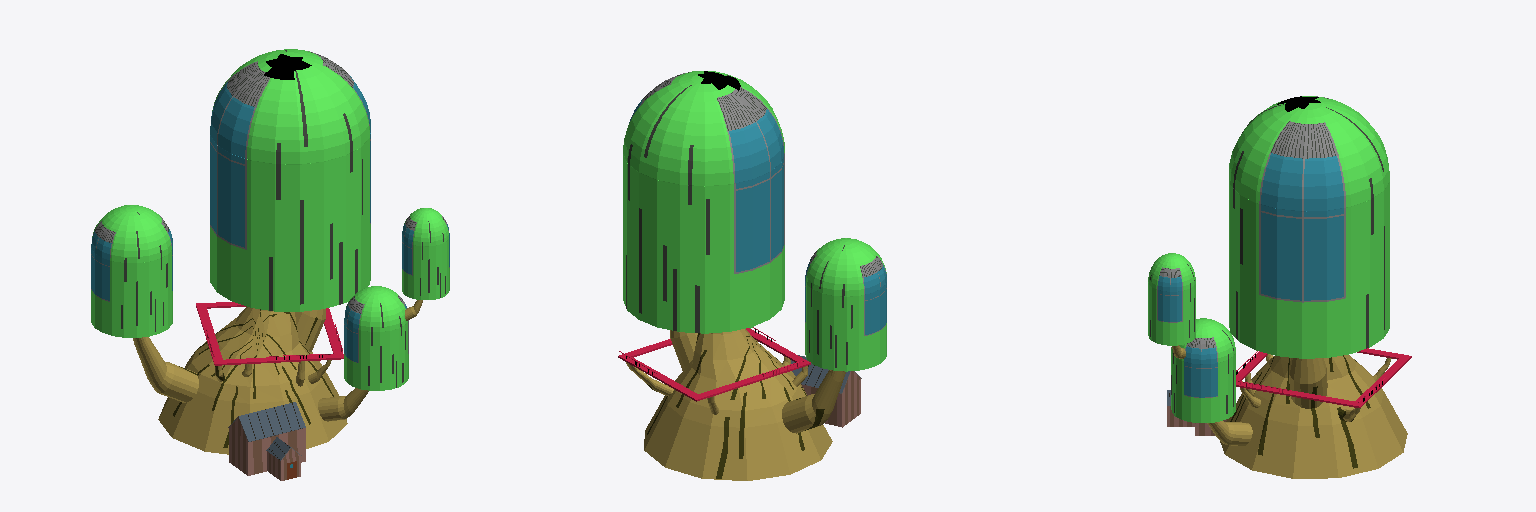
3 views of the same model, side by side, from view 1: azimuth 30°, elevation 25°; view 2: azimuth 150°, elevation 25°; view 3: azimuth 270°, elevation 25° (orthographic).
Parts seen in each view (by area): view 1: Arbol_HV:Hojas_del_arbol1, Arbol_HV:Tronco_principal, Arbol_HV:Casa, Arbol_HV:Repisa; view 2: Arbol_HV:Hojas_del_arbol1, Arbol_HV:Tronco_principal, Arbol_HV:Repisa, Arbol_HV:Casa; view 3: Arbol_HV:Hojas_del_arbol1, Arbol_HV:Tronco_principal, Arbol_HV:Repisa, Arbol_HV:Casa.
Boxes of the visible parts, x1=… form: Arbol_HV:Hojas_del_arbol1: x1=91, y1=49, x2=449, y2=390; Arbol_HV:Tronco_principal: x1=133, y1=300, x2=422, y2=454; Arbol_HV:Casa: x1=228, y1=402, x2=305, y2=480; Arbol_HV:Repisa: x1=196, y1=302, x2=343, y2=365; Arbol_HV:Hojas_del_arbol1: x1=623, y1=71, x2=886, y2=371; Arbol_HV:Tronco_principal: x1=626, y1=329, x2=845, y2=480; Arbol_HV:Repisa: x1=618, y1=327, x2=810, y2=401; Arbol_HV:Casa: x1=791, y1=355, x2=861, y2=427; Arbol_HV:Hojas_del_arbol1: x1=1148, y1=96, x2=1389, y2=422; Arbol_HV:Tronco_principal: x1=1172, y1=345, x2=1407, y2=478; Arbol_HV:Repisa: x1=1236, y1=348, x2=1411, y2=407; Arbol_HV:Casa: x1=1167, y1=390, x2=1226, y2=435.
Bounding box in the file's own units: 45.03 × 55.6 × 37.61.
Materials: 8 (7 with a texture image).